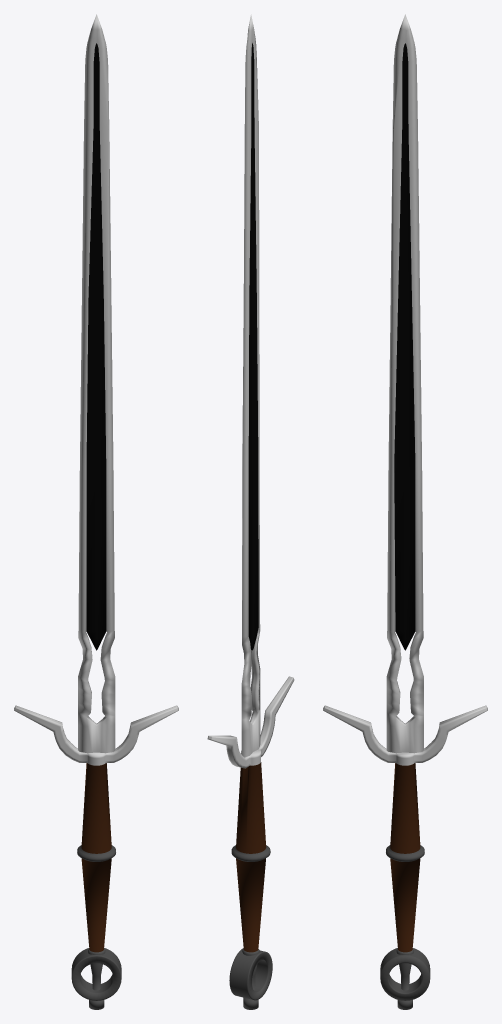
The model's file is zirael.fbx.
3 renders of one model, left to right at view 1: azimuth 90°, elevation 25°; view 2: azimuth 150°, elevation 25°; view 3: azimuth 270°, elevation 25°, orthographic.
Visible parts, largest first — view 1: filo, mango; view 2: filo, mango; view 3: filo, mango.
Boxes of the visible parts, x1,y1,x2,y2 form: filo: (78, 14, 115, 753); mango: (14, 705, 178, 1009); filo: (241, 14, 260, 757); mango: (207, 676, 294, 1009); filo: (386, 14, 423, 753); mango: (323, 705, 487, 1009).
Bounding box in the file's own units: 5.67 × 159 × 23.94.
